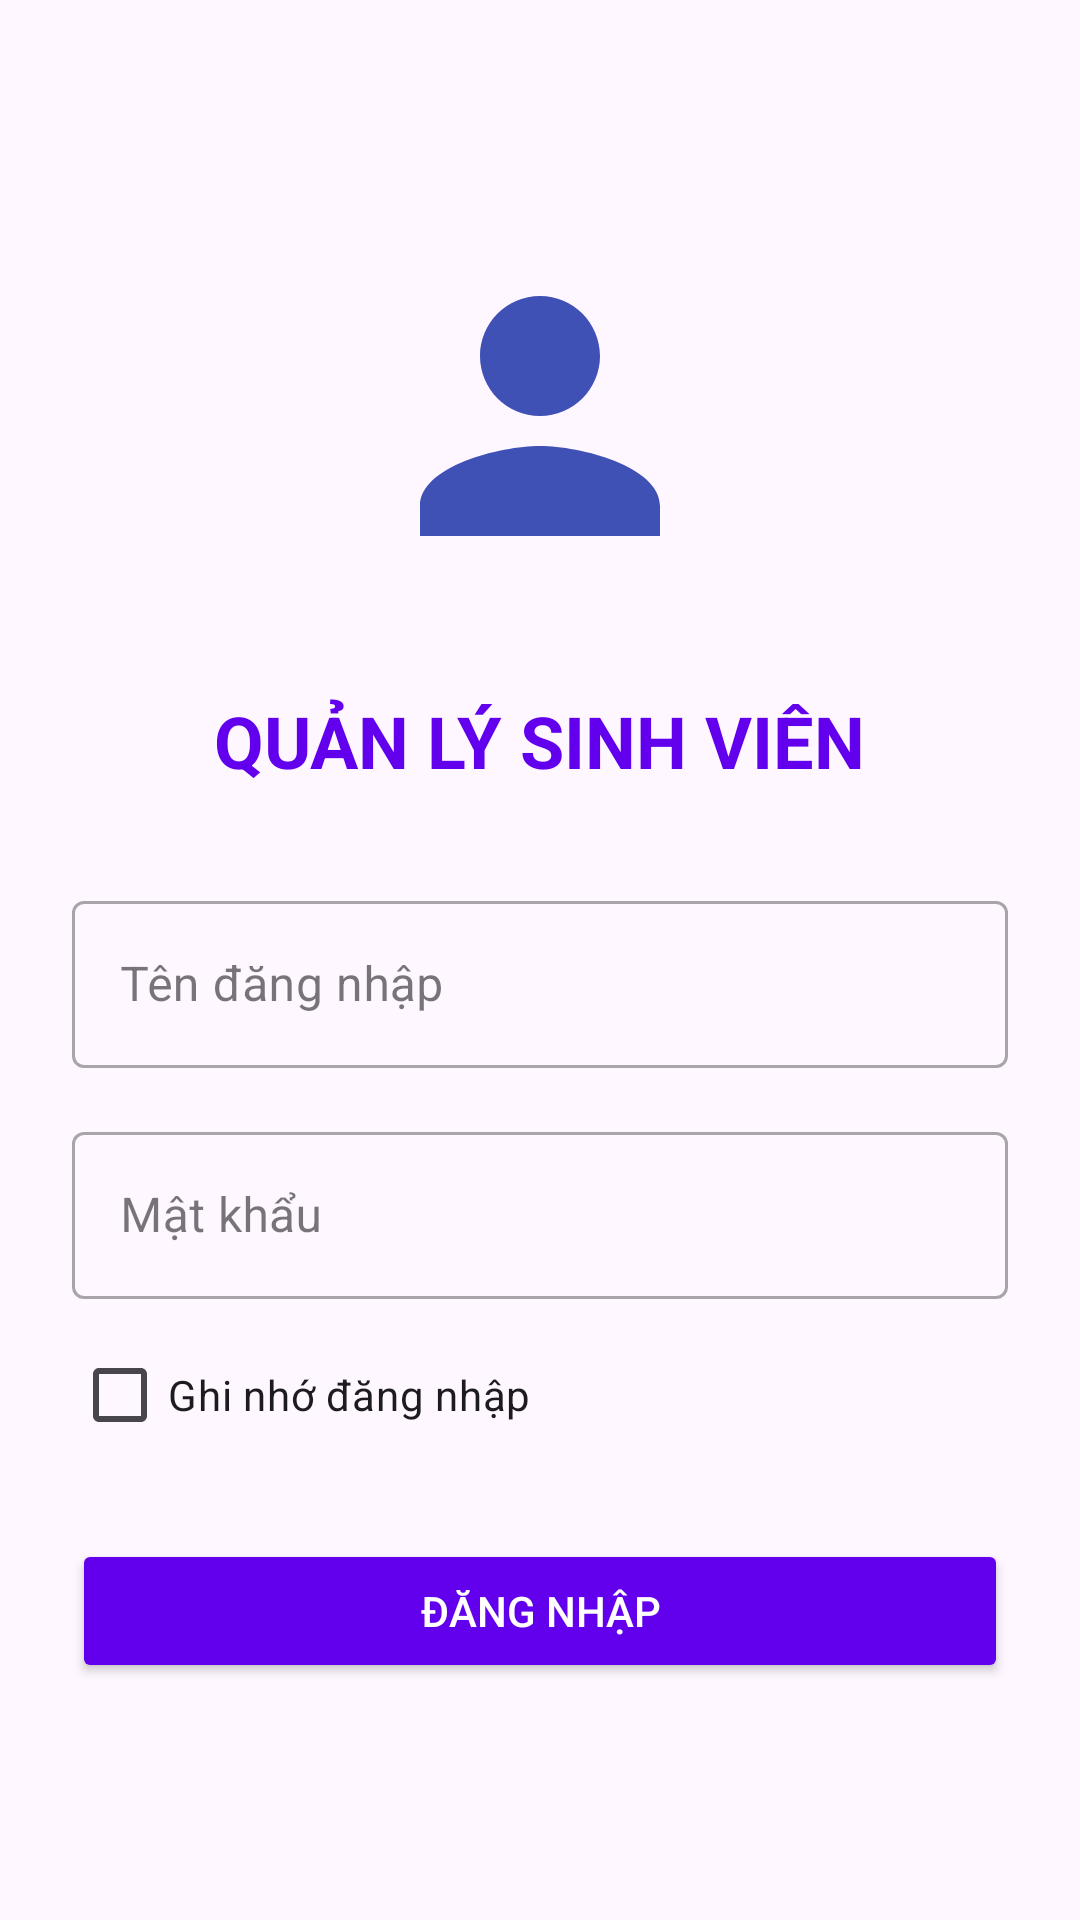

Locate icon controls on the screen. Image size 1080w x 1920h, boxes as {"x1": x1, "y1": y1, "x2": x2, "y2": y2}.
student login: {"x1": 420, "y1": 296, "x2": 660, "y2": 536}
